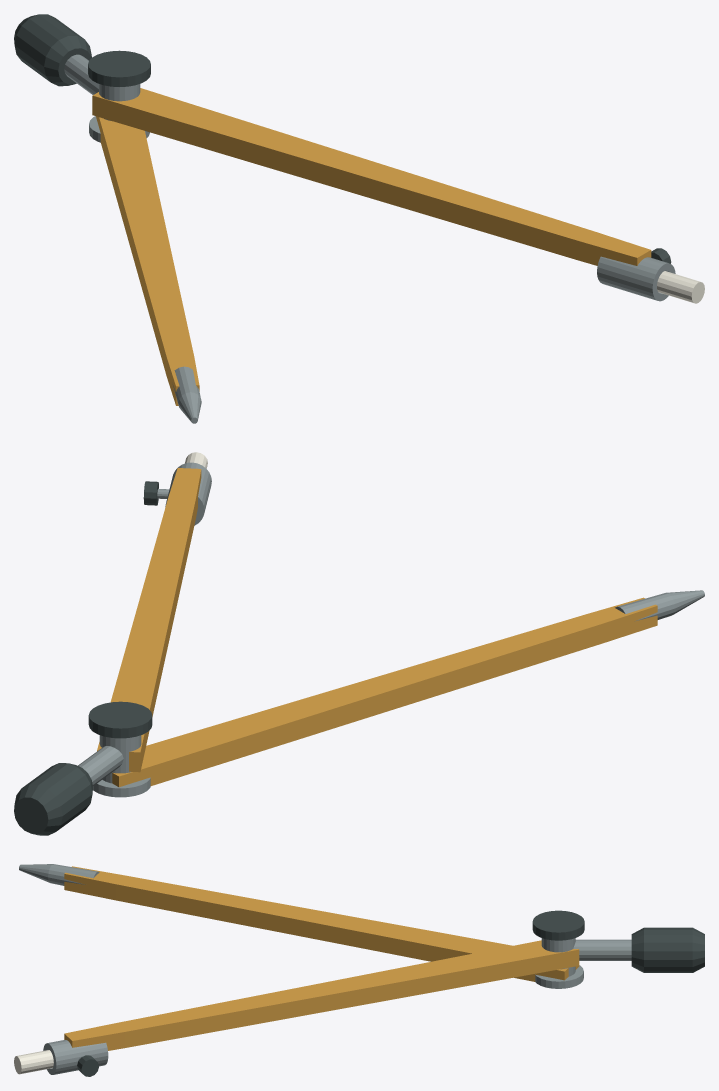
The picture shows the model from 3 angles, top to bottom: view 1: azimuth 30°, elevation 25°; view 2: azimuth 150°, elevation 25°; view 3: azimuth 270°, elevation 25°; orthographic projection. The views are drawn at different scales.
Parts seen in each view (by area): view 1: WholeTaperedDrawingArm_1, WholeTaperedDrawingArm_-1, TopTurningGrip, WholeBoredChalkSleeve, UpperHingeCap, FiniteBluntLocatingTip, ShortProtrudingChalk, TopGripStem; view 2: WholeTaperedDrawingArm_-1, WholeTaperedDrawingArm_1, TopTurningGrip, UpperHingeCap, FiniteBluntLocatingTip, TopGripStem, FixedHingeAxle, LowerHingeCap, WholeBoredChalkSleeve; view 3: WholeTaperedDrawingArm_1, WholeTaperedDrawingArm_-1, TopTurningGrip, WholeBoredChalkSleeve, UpperHingeCap, TopGripStem, FiniteBluntLocatingTip, ShortProtrudingChalk, LowerHingeCap, FixedHingeAxle, ClampThumbHead.
Boxes of the visible parts, box(x1,y1,x2,y2) form: WholeTaperedDrawingArm_1: box(92, 88, 651, 265); WholeTaperedDrawingArm_-1: box(96, 116, 199, 405); TopTurningGrip: box(14, 14, 91, 86); WholeBoredChalkSleeve: box(597, 256, 675, 301); UpperHingeCap: box(88, 50, 150, 86); FiniteBluntLocatingTip: box(172, 366, 201, 423); ShortProtrudingChalk: box(657, 271, 704, 303); TopGripStem: box(64, 54, 98, 94); WholeTaperedDrawingArm_-1: box(112, 597, 657, 787); WholeTaperedDrawingArm_1: box(97, 468, 201, 772); TopTurningGrip: box(14, 763, 92, 835); UpperHingeCap: box(88, 701, 152, 738); FiniteBluntLocatingTip: box(615, 590, 704, 621); TopGripStem: box(78, 746, 123, 785); FixedHingeAxle: box(99, 735, 141, 783); LowerHingeCap: box(93, 777, 150, 797); WholeBoredChalkSleeve: box(165, 462, 211, 525); WholeTaperedDrawingArm_1: box(64, 940, 579, 1050); WholeTaperedDrawingArm_-1: box(64, 866, 579, 981); TopTurningGrip: box(631, 927, 704, 972); WholeBoredChalkSleeve: box(43, 1040, 108, 1074); UpperHingeCap: box(532, 910, 584, 940); TopGripStem: box(573, 939, 631, 960); FiniteBluntLocatingTip: box(19, 864, 99, 885); ShortProtrudingChalk: box(14, 1050, 53, 1074); LowerHingeCap: box(535, 965, 583, 988); FixedHingeAxle: box(541, 938, 575, 976); ClampThumbHead: box(77, 1055, 98, 1076).
Size of the model in its own units: 0.6067 by 0.077 by 0.8499.
